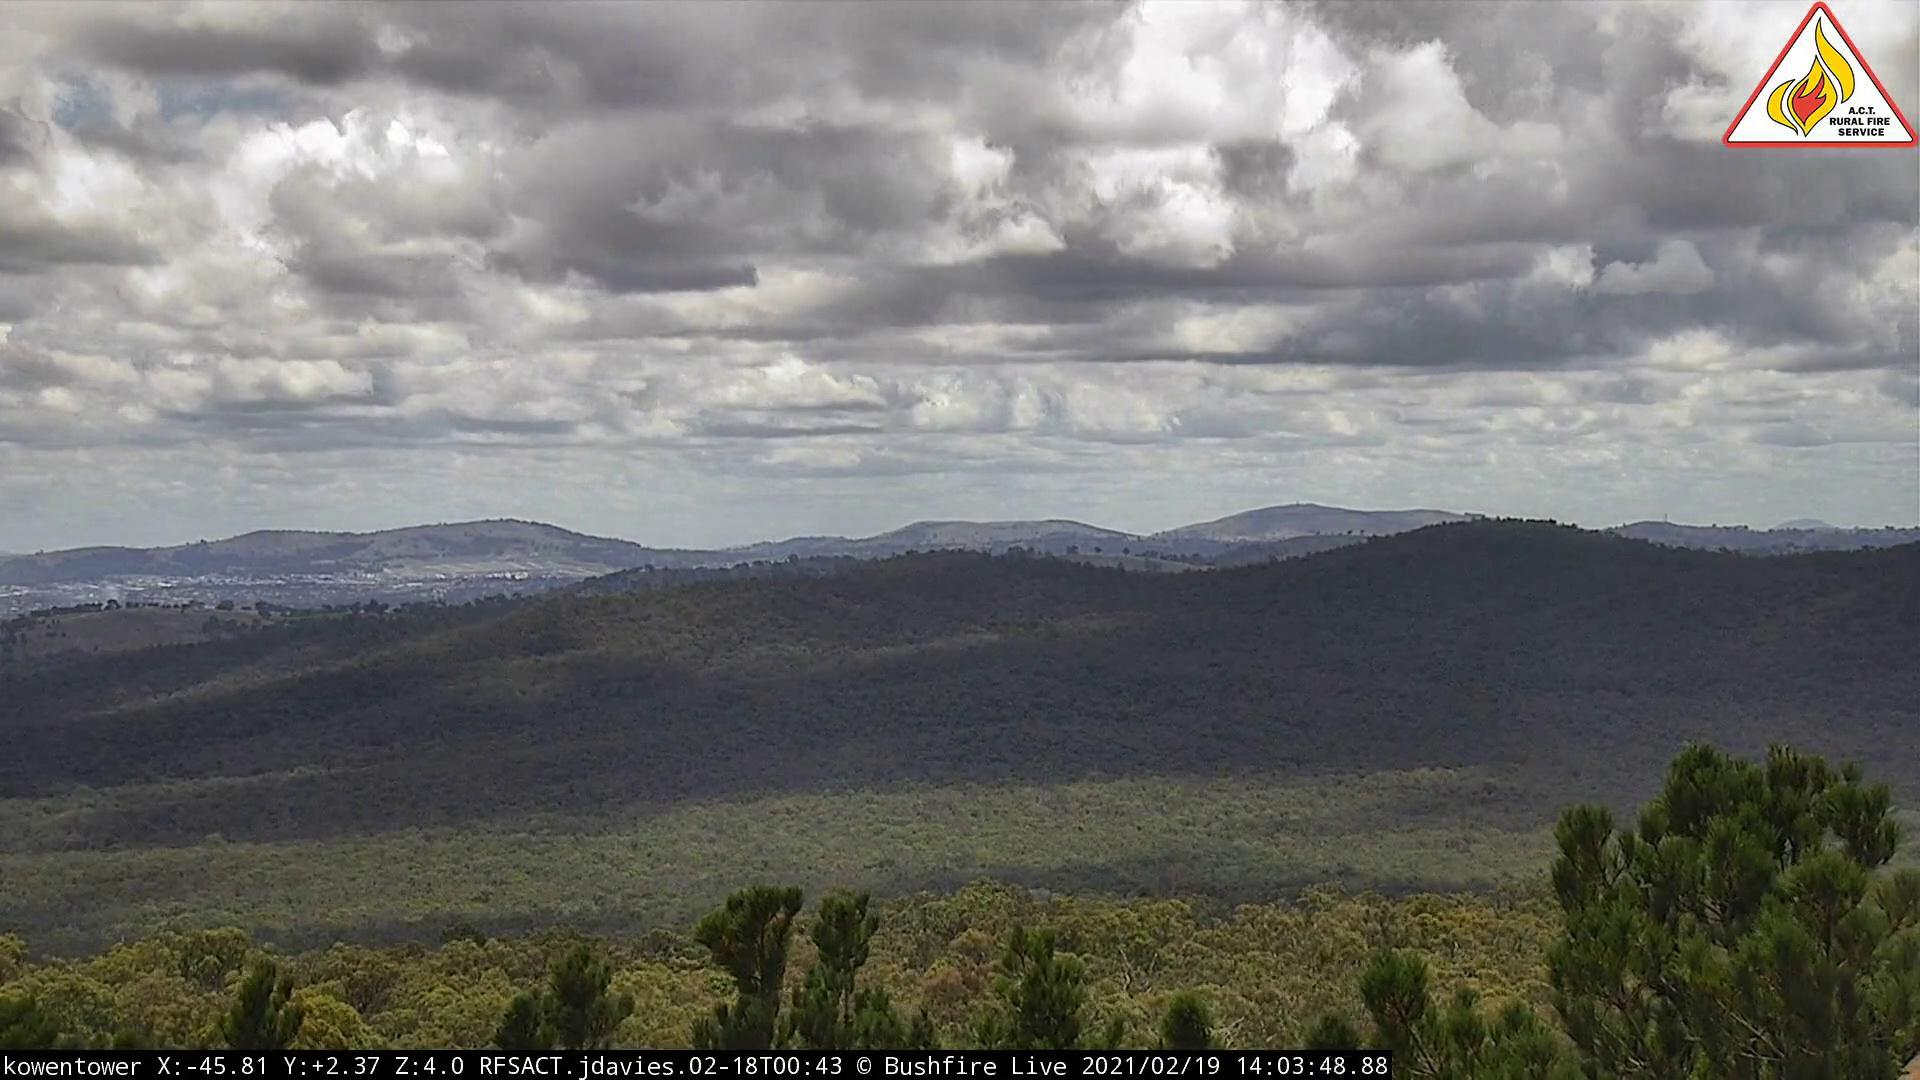Smoke: (95, 579, 132, 622)
